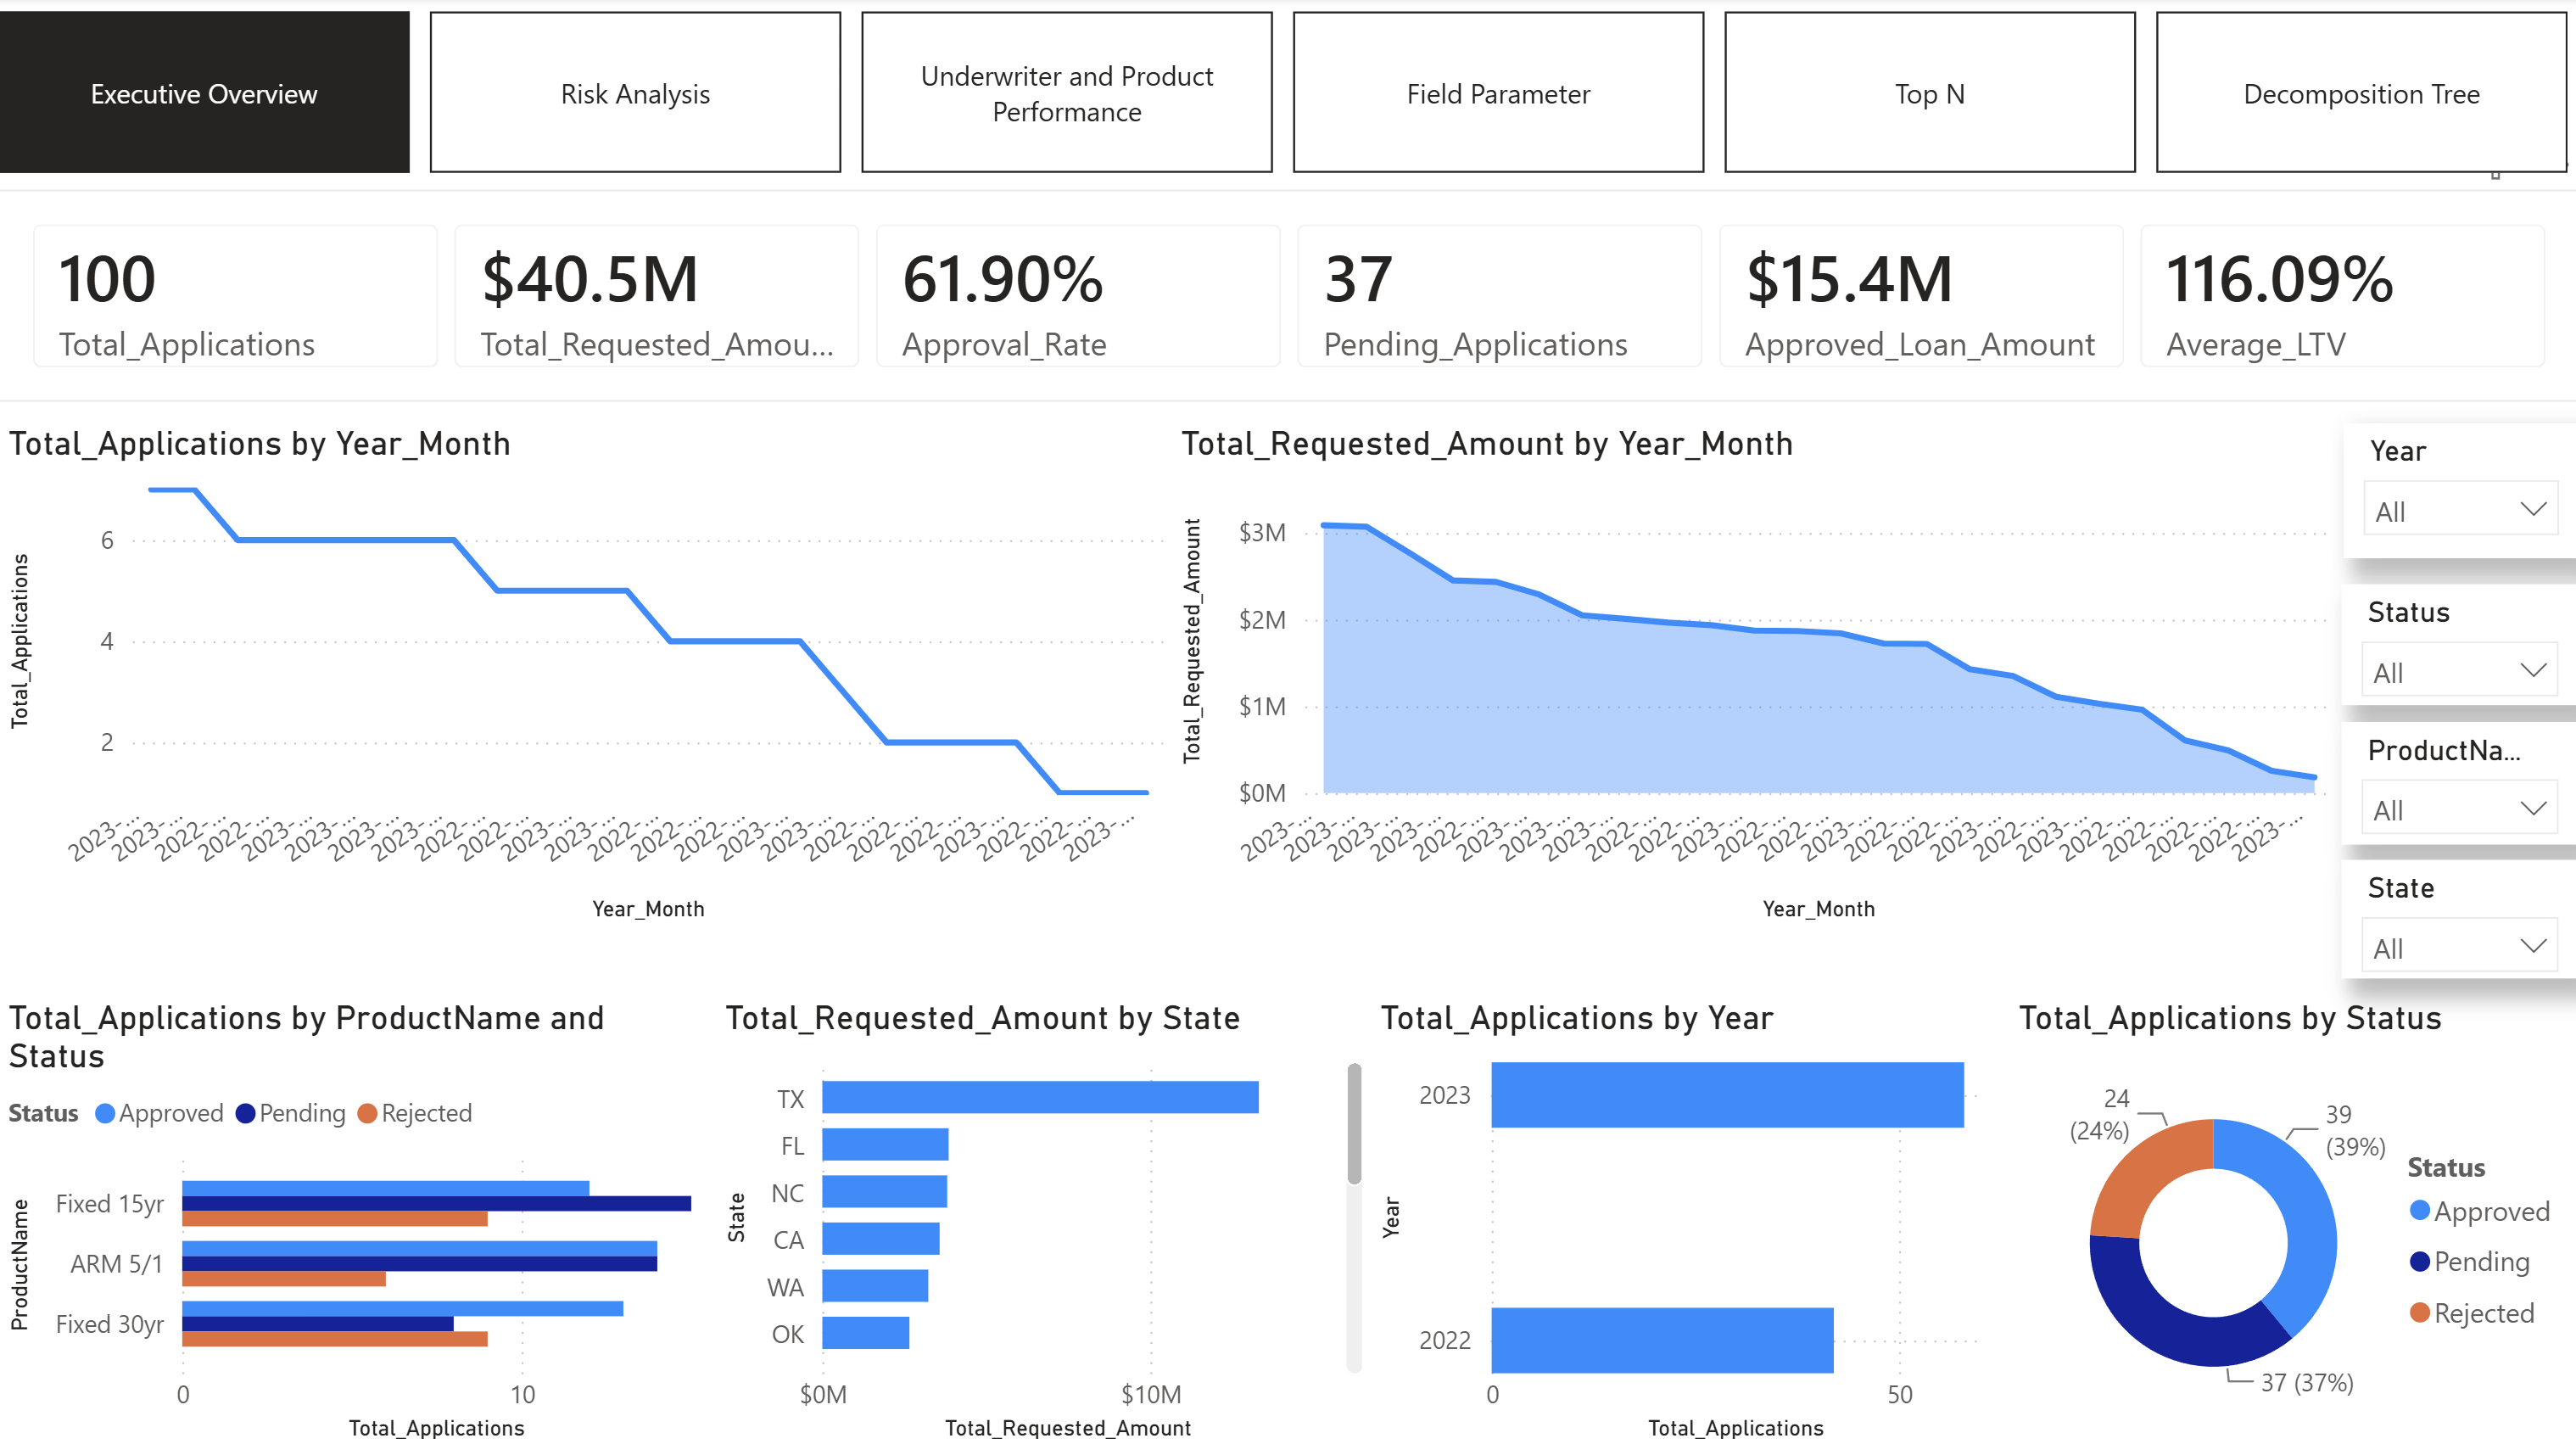

The page's visual inventory and layout, read from the dashboard file:
{"tool":"powerbi","page":{"name":"Executive Overview","canvas":[1280,720],"ordinal":0},"visuals":[{"type":"cardVisual","fields":{"Data":["Measure_Table.Total_Applications","Measure_Table.Total_Requested_Amount","Measure_Table.Approval_Rate","Measure_Table.Pending_Applications","Measure_Table.Approved_Loan_Amount","Measure_Table.Average_LTV"]},"box":[0,95.7,1280.6,105.1],"z":0},{"type":"lineChart","fields":{"Y":["Measure_Table.Total_Applications"],"Category":["DimDate.Year_Month"]},"box":[0,211.3,582.5,251.3],"z":1000},{"type":"areaChart","fields":{"Category":["DimDate.Year_Month"],"Y":["Measure_Table.Total_Requested_Amount"]},"box":[581.4,211.3,580.4,251.3],"z":2000},{"type":"donutChart","fields":{"Y":["Measure_Table.Total_Applications"],"Category":["FactApplications.Status"]},"box":[996.7,496.3,283.9,223.9],"z":3000},{"type":"clusteredBarChart","fields":{"Category":["DimProducts.ProductName"],"Y":["Measure_Table.Total_Applications"],"Series":["FactApplications.Status"]},"box":[0,496.3,355.4,223.9],"z":4000},{"type":"barChart","fields":{"Category":["DimProperties.State"],"Y":["Measure_Table.Total_Requested_Amount"]},"box":[355.4,496.3,325.9,223.9],"z":5000},{"type":"barChart","fields":{"Category":["DimDate.Year"],"Y":["Measure_Table.Total_Applications"]},"box":[680.3,496.3,314.4,223.9],"z":6000},{"type":"slicer","fields":{"Values":["DimDate.Year"]},"box":[1162.9,211.3,116.7,67.3],"z":7000},{"type":"slicer","fields":{"Values":["FactApplications.Status"]},"box":[1161.8,291.2,117.8,59.9],"z":8000},{"type":"slicer","fields":{"Values":["DimProducts.ProductName"]},"box":[1161.8,359.6,117.8,61],"z":9000},{"type":"slicer","fields":{"Values":["DimProperties.State"]},"box":[1161.8,427.9,117.8,58.9],"z":10000},{"type":"pageNavigator","box":[0,7.4,1279.6,81],"z":10001}]}

Visuals, with their boxes in screenshot pixels (x1, y1, x2, y2), scaled from the page's 1280x720 canvas onto the 2576x1444 screenshot:
cardVisual - Measure_Table.Total_Applications x Measure_Table.Total_Requested_Amount: bbox(0, 192, 2575, 403)
lineChart - Measure_Table.Total_Applications x DimDate.Year_Month: bbox(0, 423, 1172, 928)
areaChart - DimDate.Year_Month x Measure_Table.Total_Requested_Amount: bbox(1170, 423, 2339, 928)
donutChart - Measure_Table.Total_Applications x FactApplications.Status: bbox(2006, 995, 2575, 1443)
clusteredBarChart - DimProducts.ProductName x Measure_Table.Total_Applications: bbox(0, 995, 715, 1443)
barChart - DimProperties.State x Measure_Table.Total_Requested_Amount: bbox(715, 995, 1371, 1443)
barChart - DimDate.Year x Measure_Table.Total_Applications: bbox(1369, 995, 2002, 1443)
slicer - DimDate.Year: bbox(2340, 423, 2575, 559)
slicer - FactApplications.Status: bbox(2339, 584, 2575, 704)
slicer - DimProducts.ProductName: bbox(2339, 721, 2575, 843)
slicer - DimProperties.State: bbox(2339, 859, 2575, 977)
pageNavigator: bbox(0, 14, 2575, 177)
